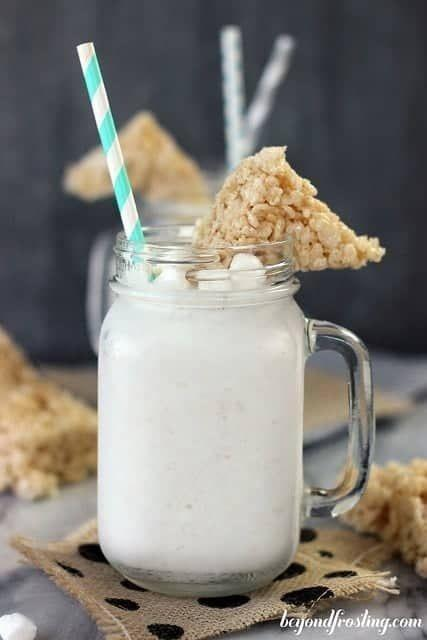glass-mug: (91, 221, 378, 604)
